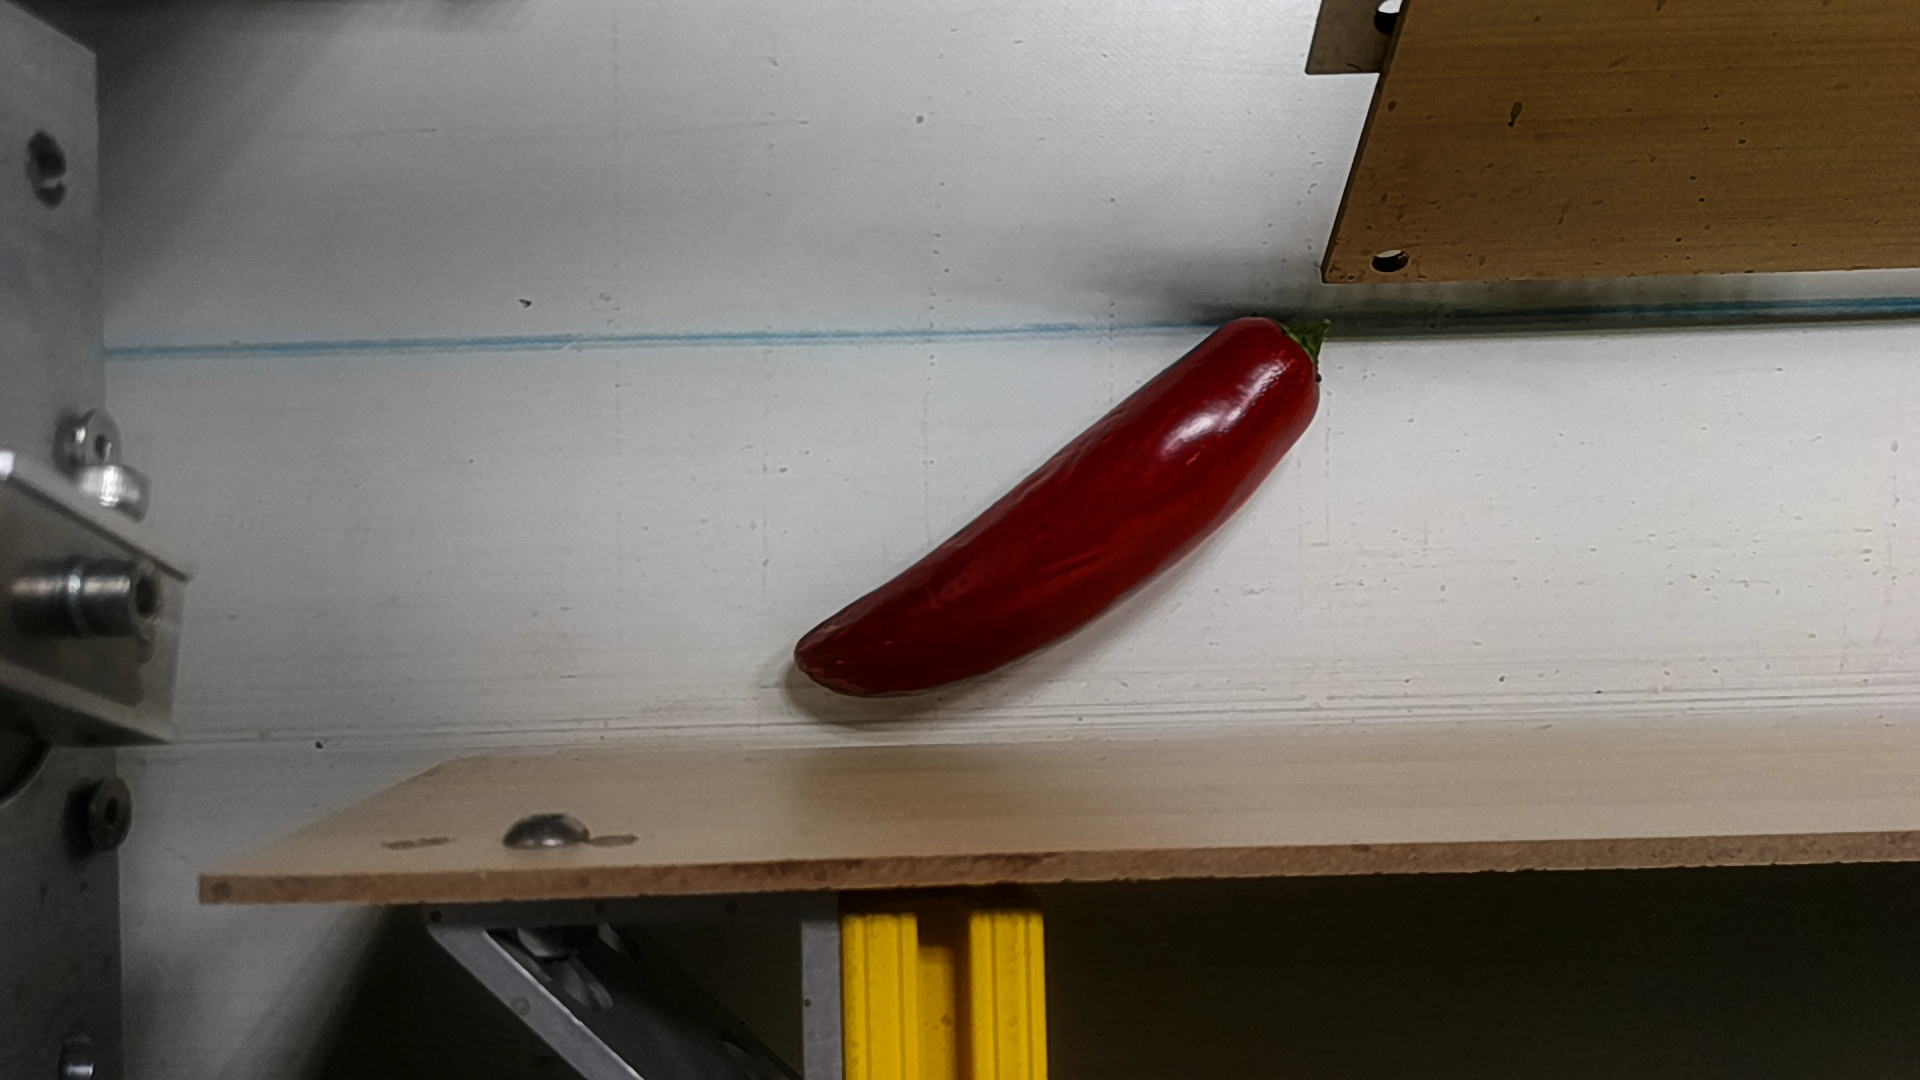Cut Point: (1236, 294, 1340, 414)
